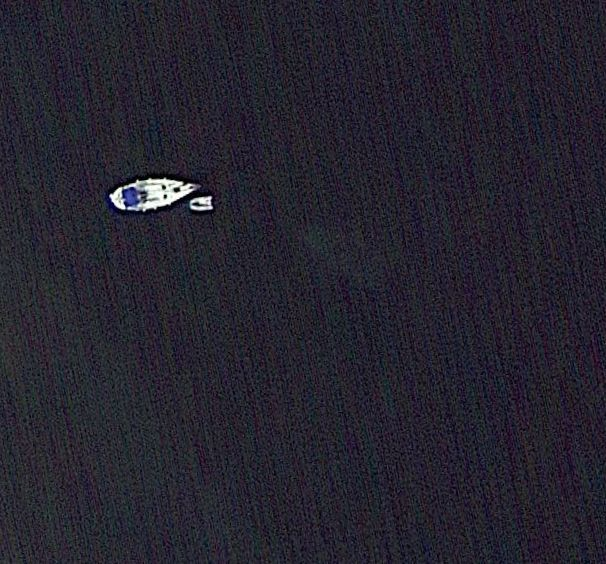boat: (107, 175, 203, 216), (186, 191, 218, 214)
